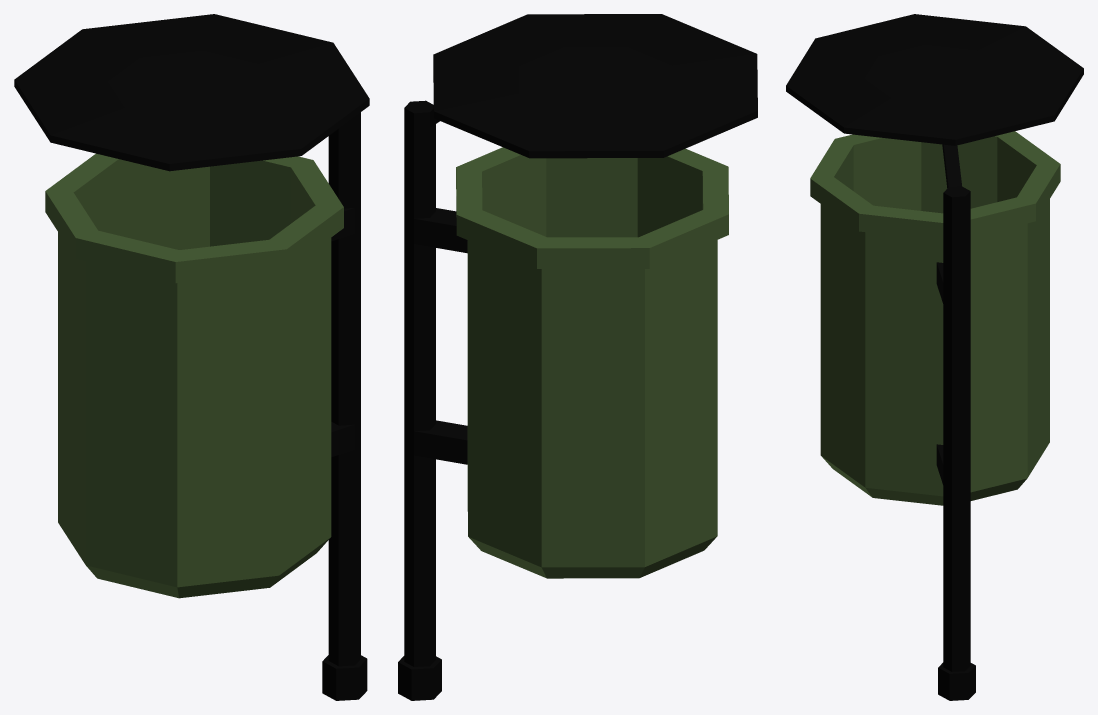
File: Street Trashcan.fbx
3 views of the same model, side by side, from view 1: azimuth 30°, elevation 25°; view 2: azimuth 150°, elevation 25°; view 3: azimuth 270°, elevation 25° (orthographic). The views are drawn at different scales.
Visible parts, largest first — view 1: Street Trashcan; view 2: Street Trashcan; view 3: Street Trashcan.
Part boxes in pixels (box(x1,y1,x2,y2)): Street Trashcan: box(14, 14, 369, 700); Street Trashcan: box(398, 14, 757, 700); Street Trashcan: box(786, 14, 1083, 700).
Size of the model in its own units: 88.67 by 80.62 by 165.
